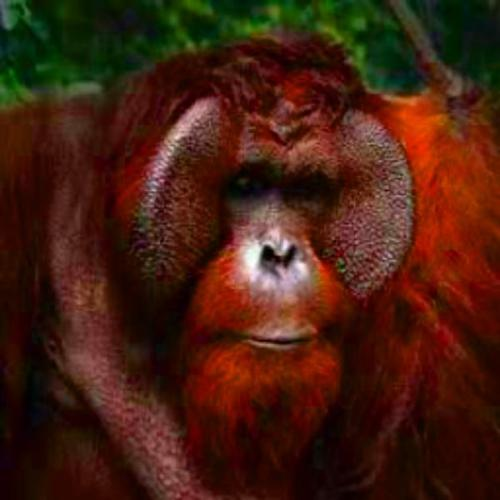orangutan-endangered: (65, 51, 463, 435)
